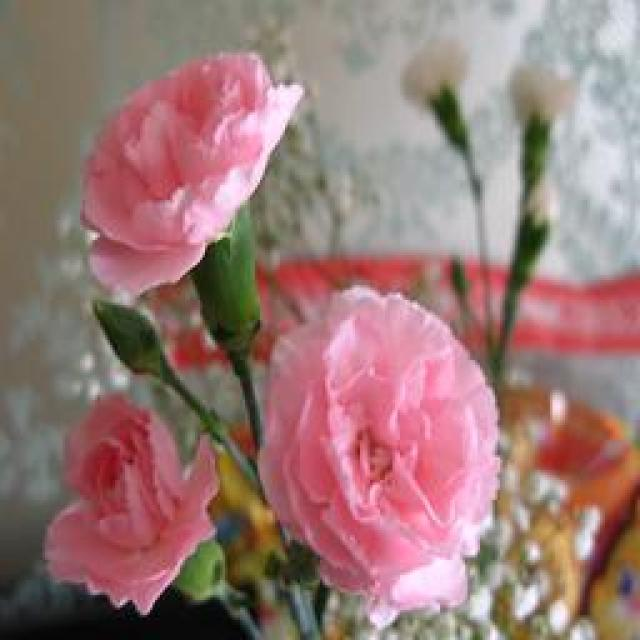carnation: (256, 258, 523, 616)
